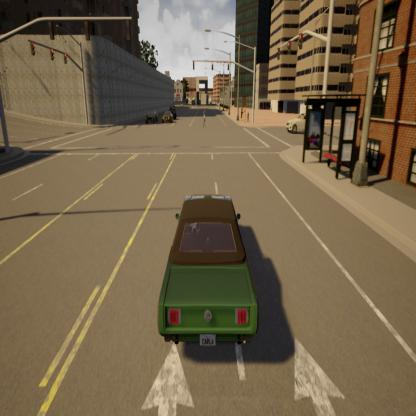Cars: (141, 170, 268, 385), (278, 105, 314, 138), (168, 96, 178, 127), (144, 104, 156, 128), (162, 107, 174, 131)
Pedestrian: (200, 99, 210, 138), (242, 102, 248, 126), (246, 105, 251, 126), (239, 103, 243, 126)
